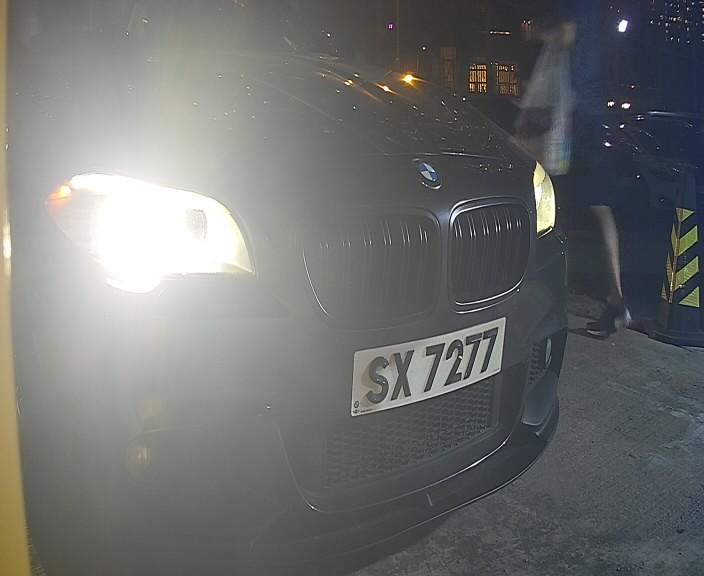privatecar: (12, 2, 569, 570)
